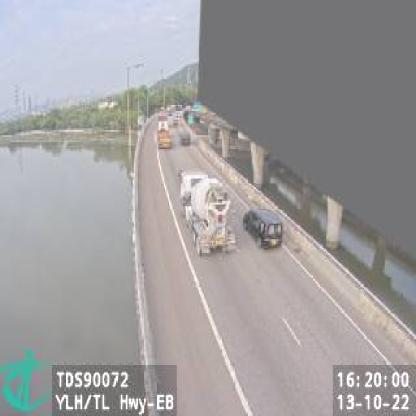Car: (243, 207, 285, 249), (181, 131, 192, 146)
Truck: (179, 165, 236, 257), (159, 127, 171, 150)
